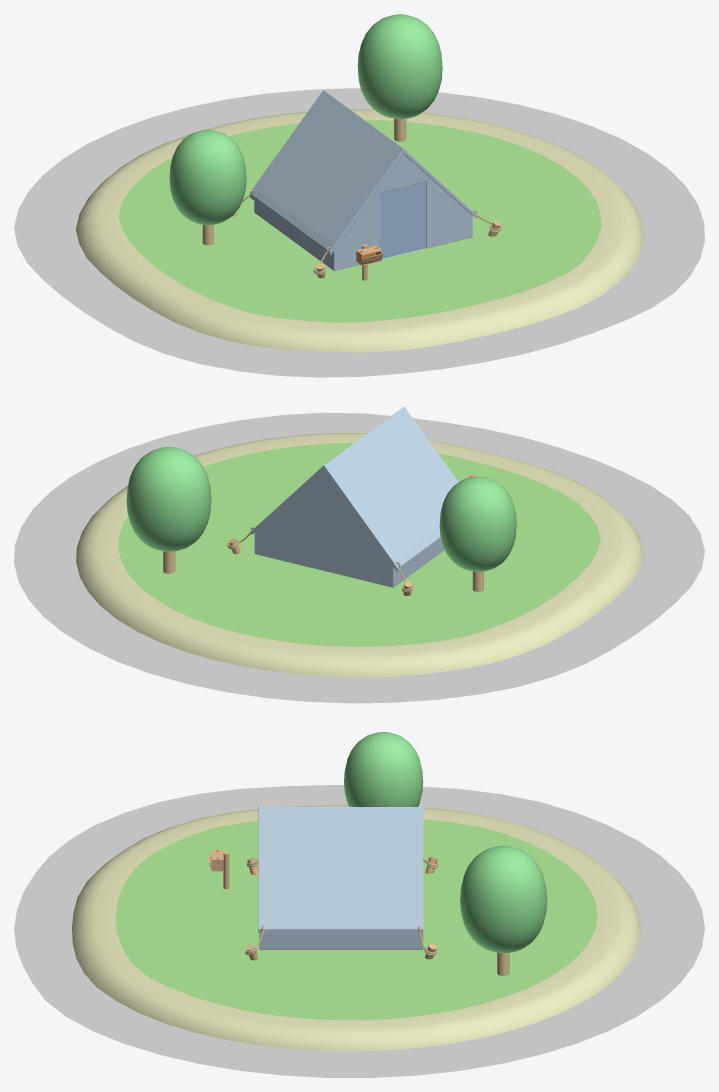
The model's file is Island04.glb.
3 renders of one model, top to bottom at view 1: azimuth 30°, elevation 25°; view 2: azimuth 150°, elevation 25°; view 3: azimuth 270°, elevation 25°, orthographic. The views are drawn at different scales.
Visible parts, largest first — view 1: Land, OuterSea, Tent, Tree02, Tree01; view 2: Land, OuterSea, Tent, Tree02, Tree01; view 3: Land, OuterSea, Tent, Tree02, Tree01, Mail.
Boxes of the visible parts, x1,y1,x2,y2 form: Land: (76, 109, 643, 352); OuterSea: (14, 88, 704, 377); Tent: (250, 90, 476, 270); Tree02: (357, 14, 442, 141); Tree01: (169, 129, 246, 245); Land: (76, 433, 643, 677); OuterSea: (14, 412, 704, 703); Tent: (251, 406, 458, 587); Tree02: (126, 447, 211, 573); Tree01: (439, 476, 516, 591); Land: (72, 805, 640, 1051); OuterSea: (14, 785, 704, 1077); Tent: (258, 807, 423, 949); Tree02: (460, 845, 547, 975); Tree01: (344, 732, 423, 806); Mail: (209, 850, 229, 889).
Bounding box in the file's own units: 4.22 × 0.9552 × 4.21.
